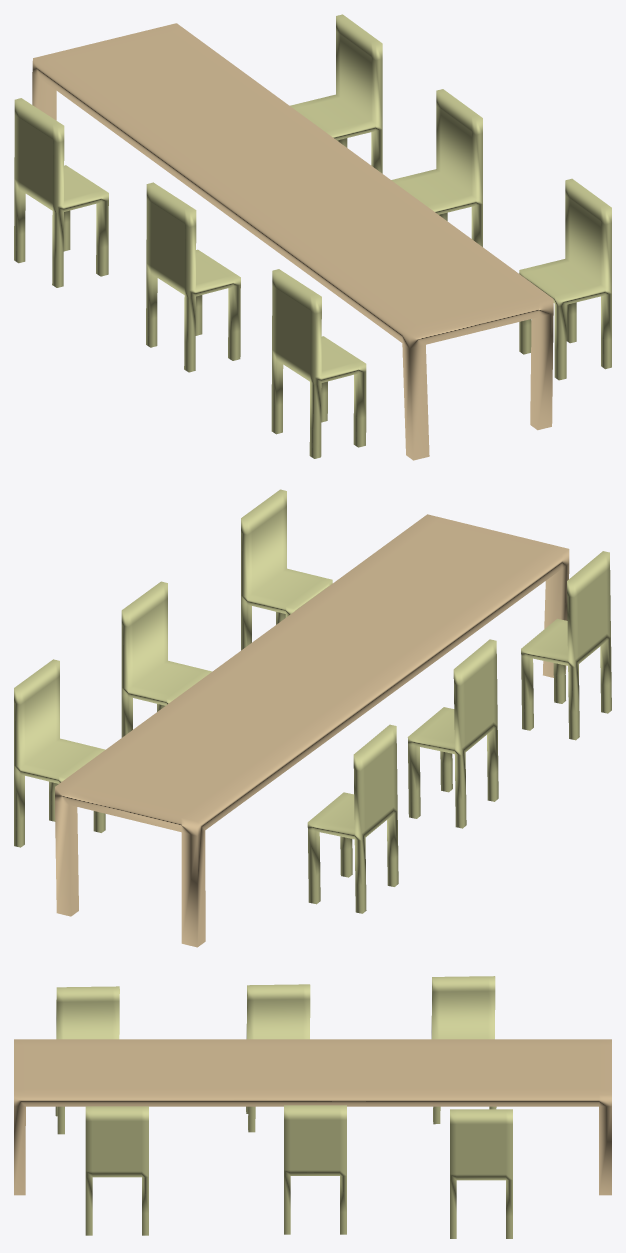
Rendered from Ruokala_pîytÑ.fbx.
The picture shows the model from 3 angles, top to bottom: view 1: azimuth 30°, elevation 25°; view 2: azimuth 150°, elevation 25°; view 3: azimuth 270°, elevation 25°; orthographic projection. The views are drawn at different scales.
Visible parts, largest first — view 1: Cube, Cube_001, Cube_006, Cube_005, Cube_004, Cube_002, Cube_003; view 2: Cube, Cube_006, Cube_005, Cube_004, Cube_002, Cube_001, Cube_003; view 3: Cube, Cube_001, Cube_002, Cube_003, Cube_006, Cube_005, Cube_004.
Part boxes in pixels (<box>): Cube: <box>32,23,553,460</box>; Cube_001: <box>519,178,611,380</box>; Cube_006: <box>14,98,108,287</box>; Cube_005: <box>146,182,240,372</box>; Cube_004: <box>271,269,366,458</box>; Cube_002: <box>290,14,382,173</box>; Cube_003: <box>391,89,482,246</box>; Cube: <box>55,514,569,947</box>; Cube_006: <box>307,724,398,913</box>; Cube_005: <box>407,639,498,828</box>; Cube_004: <box>521,551,611,740</box>; Cube_002: <box>14,659,105,847</box>; Cube_001: <box>241,489,332,650</box>; Cube_003: <box>121,581,211,737</box>; Cube: <box>14,1039,611,1195</box>; Cube_001: <box>85,1106,148,1235</box>; Cube_002: <box>450,1109,512,1238</box>; Cube_003: <box>284,1105,346,1234</box>; Cube_006: <box>431,976,496,1124</box>; Cube_005: <box>246,984,310,1132</box>; Cube_004: <box>55,986,119,1134</box>.
Bounding box in the file's own units: 5.35 × 2.49 × 10.25.
